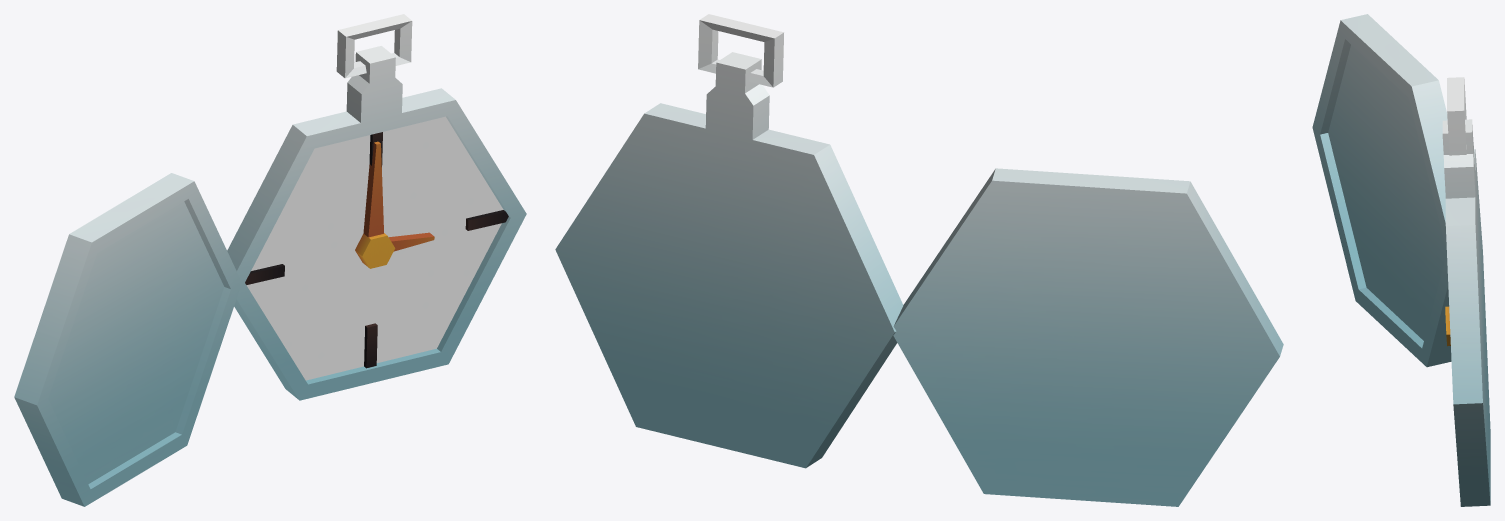
File: Watch03.fbx
The picture shows the model from 3 angles, left to right: view 1: azimuth 30°, elevation 25°; view 2: azimuth 150°, elevation 25°; view 3: azimuth 270°, elevation 25°; orthographic projection. The views are drawn at different scales.
Parts seen in each view (by area): view 1: Clock03; view 2: Clock03; view 3: Clock03.
Boxes of the visible parts, bbox=[...] form: Clock03: bbox=[14, 14, 526, 506]; Clock03: bbox=[555, 14, 1283, 506]; Clock03: bbox=[1312, 14, 1490, 506].
Bounding box in the file's own units: 44.01 × 26.99 × 11.49.
Materials: 1 (1 with a texture image).
